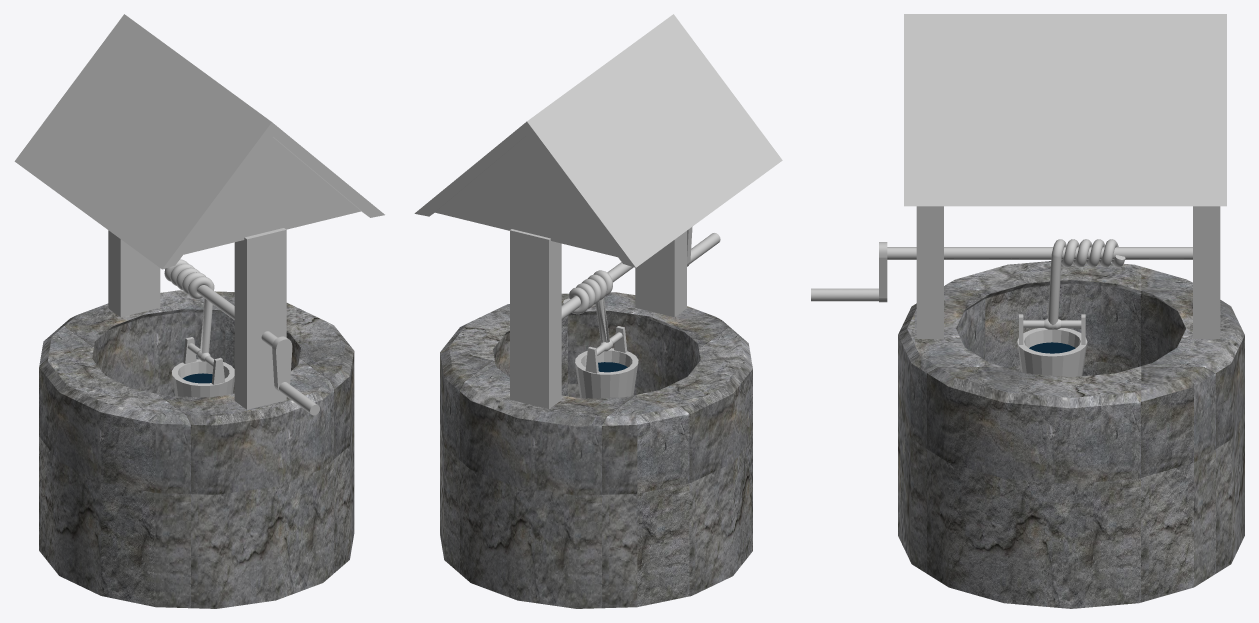
File: Puit.FBX
3 views of the same model, side by side, from view 1: azimuth 30°, elevation 25°; view 2: azimuth 150°, elevation 25°; view 3: azimuth 270°, elevation 25° (orthographic). The views are drawn at different scales.
Parts seen in each view (by area): view 1: Cylinder05; view 2: Cylinder05; view 3: Cylinder05.
Boxes of the visible parts, x1,y1,x2,y2 form: Cylinder05: (14, 14, 384, 608); Cylinder05: (414, 14, 782, 608); Cylinder05: (811, 14, 1244, 608).
Bounding box in the file's own units: 97.32 × 161 × 122.
